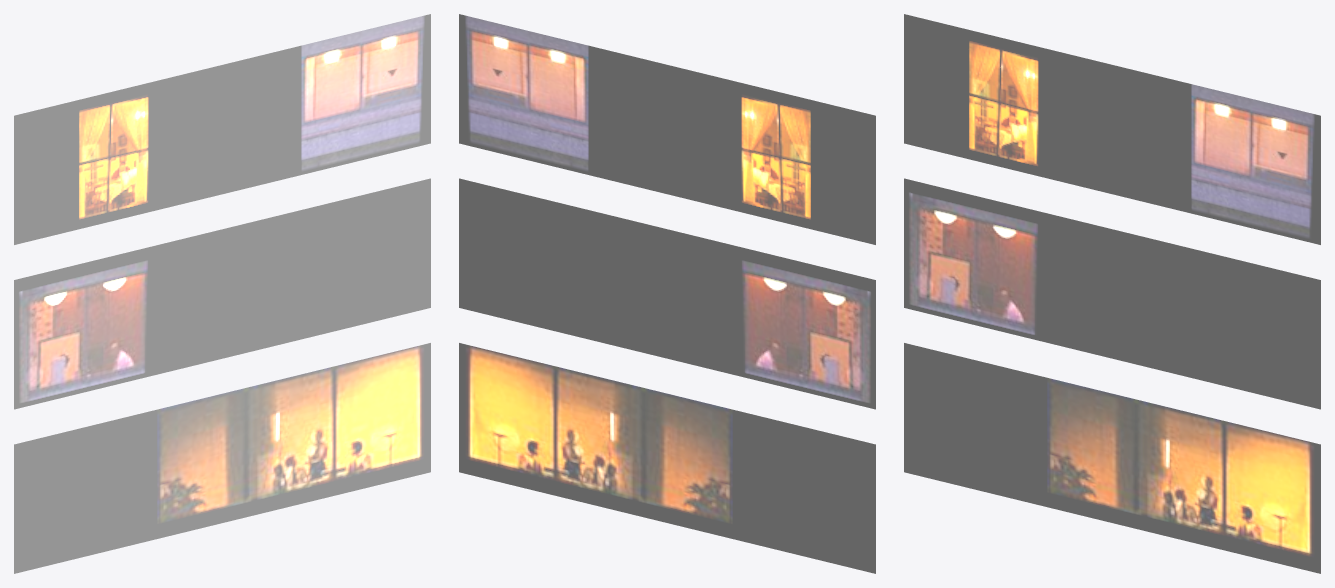
Rendered from city_incanObj_stoop.fbx.
The picture shows the model from 3 angles, left to right: view 1: azimuth 30°, elevation 25°; view 2: azimuth 150°, elevation 25°; view 3: azimuth 330°, elevation 25°; orthographic projection.
Visible parts, largest first — view 1: city_incanObj_stoop; view 2: city_incanObj_stoop; view 3: city_incanObj_stoop.
Boxes of the visible parts, bbox=[...] form: city_incanObj_stoop: bbox=[14, 14, 430, 573]; city_incanObj_stoop: bbox=[459, 14, 875, 573]; city_incanObj_stoop: bbox=[904, 14, 1320, 573].
Bounding box in the file's own units: 903 × 1.14e-13 × 949.
